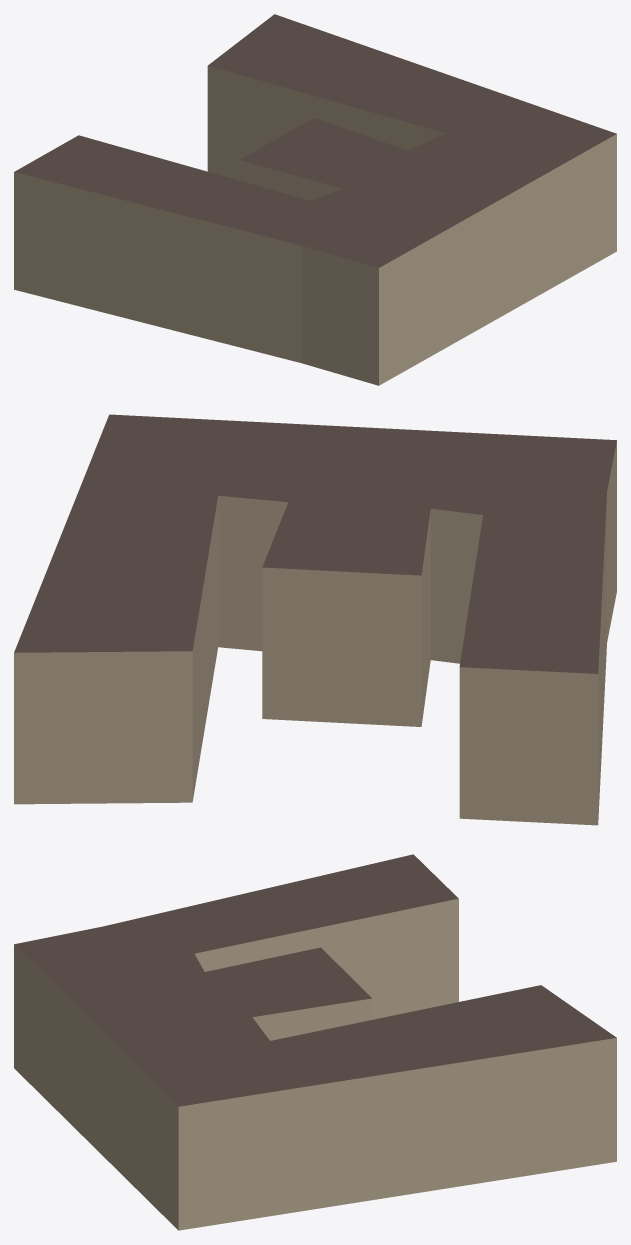
The picture shows the model from 3 angles, top to bottom: view 1: azimuth 30°, elevation 25°; view 2: azimuth 150°, elevation 25°; view 3: azimuth 270°, elevation 25°; orthographic projection. The views are drawn at different scales.
Parts seen in each view (by area): view 1: HP-w1512359775; view 2: HP-w1512359775; view 3: HP-w1512359775.
Boxes of the visible parts, x1,y1,x2,y2 form: HP-w1512359775: (14,14,616,385); HP-w1512359775: (14,414,616,825); HP-w1512359775: (14,854,616,1230).
Size of the model in its own units: 39.32 by 9 by 39.69.
